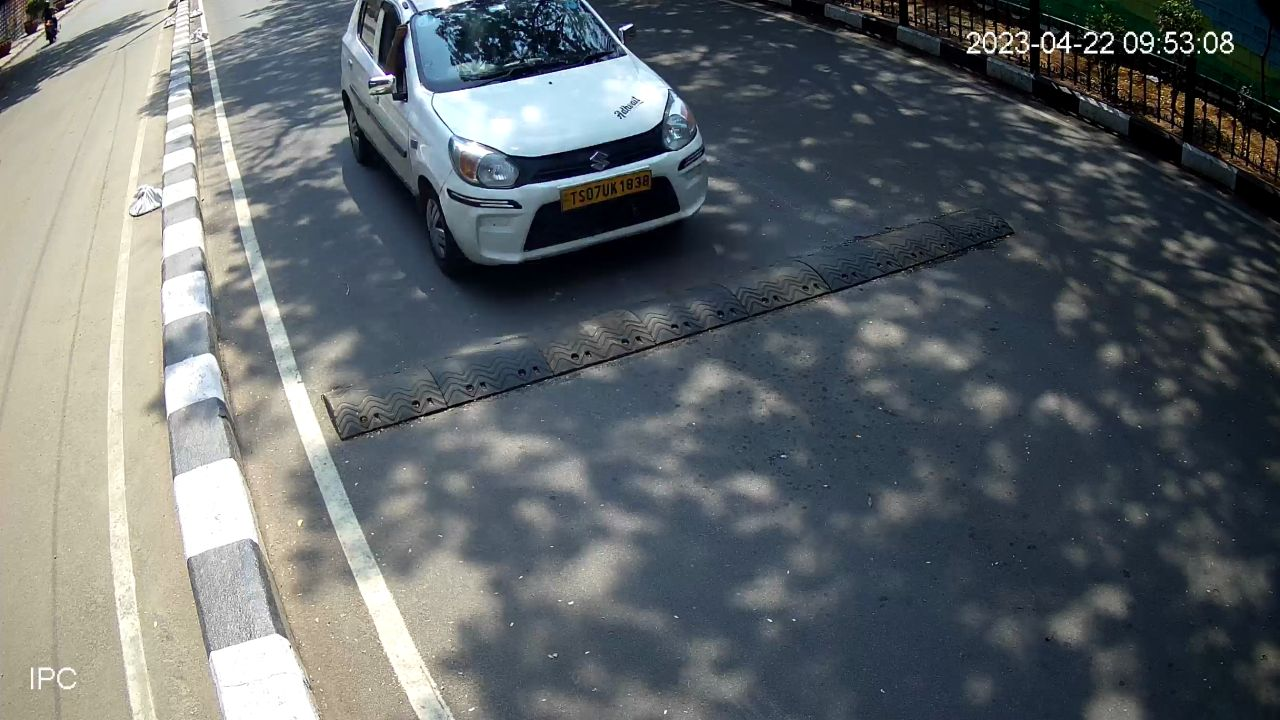license_plate: (550, 161, 659, 217)
